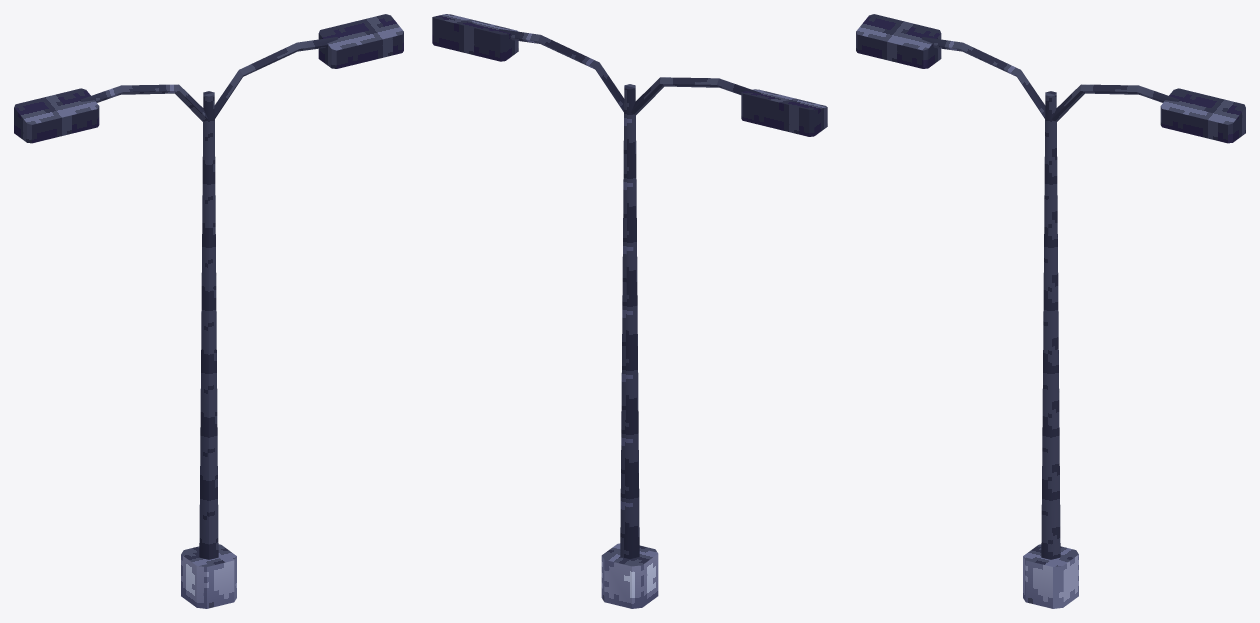
File: cytech.street_light__double.glb
3 renders of one model, left to right at view 1: azimuth 30°, elevation 25°; view 2: azimuth 150°, elevation 25°; view 3: azimuth 330°, elevation 25°, orthographic.
Parts seen in each view (by area): view 1: kit_pole; view 2: kit_pole; view 3: kit_pole.
Part boxes in pixels (x1,y1,x2,y2): kit_pole: (14,14,403,608); kit_pole: (432,14,827,608); kit_pole: (856,14,1245,608).
Bounding box in the file's own units: 4.7 × 6.35 × 0.5.
Materials: 5 (5 with a texture image).
